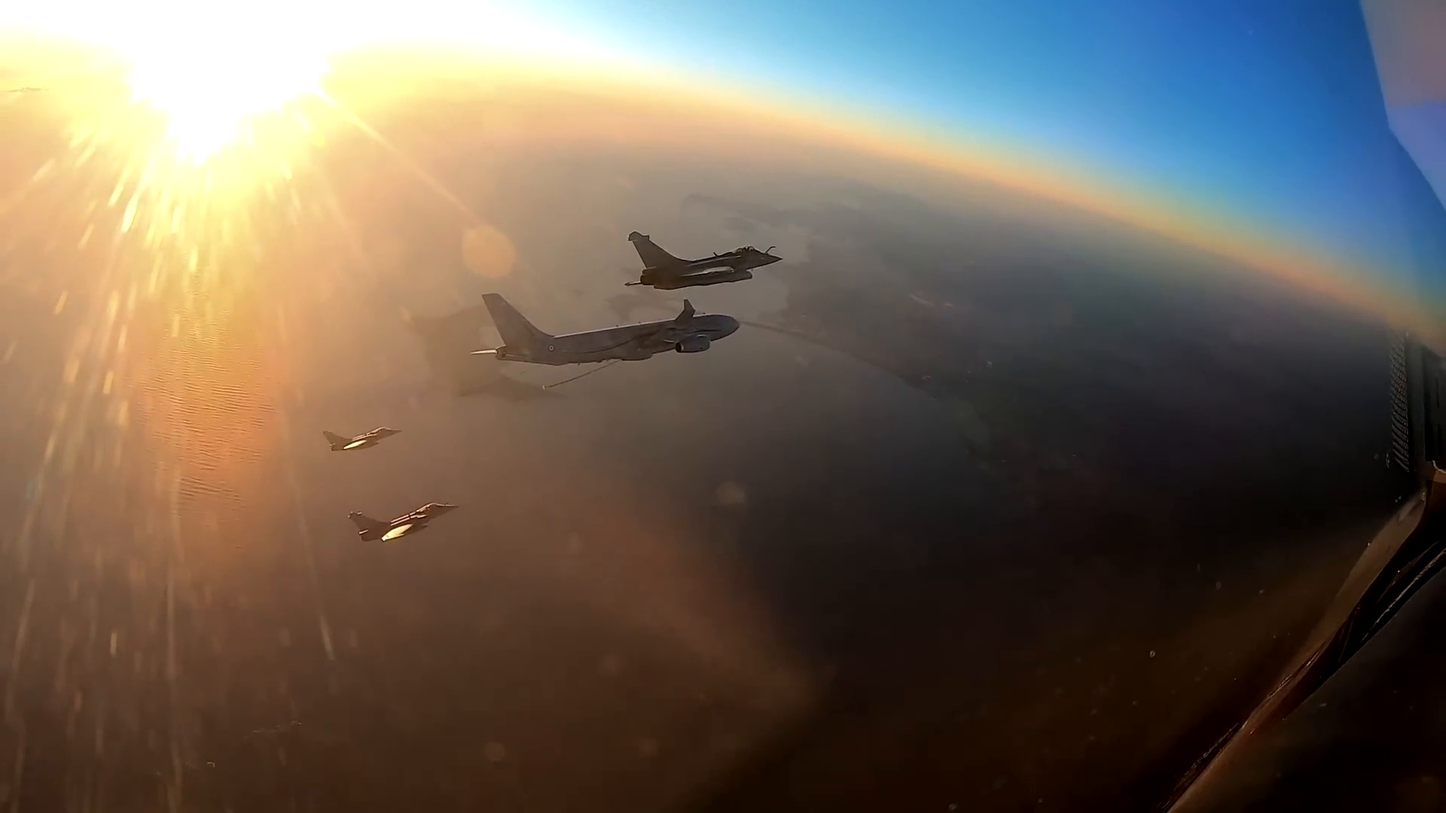Rafale: (623, 230, 786, 293), (347, 499, 459, 543), (321, 422, 401, 455)
